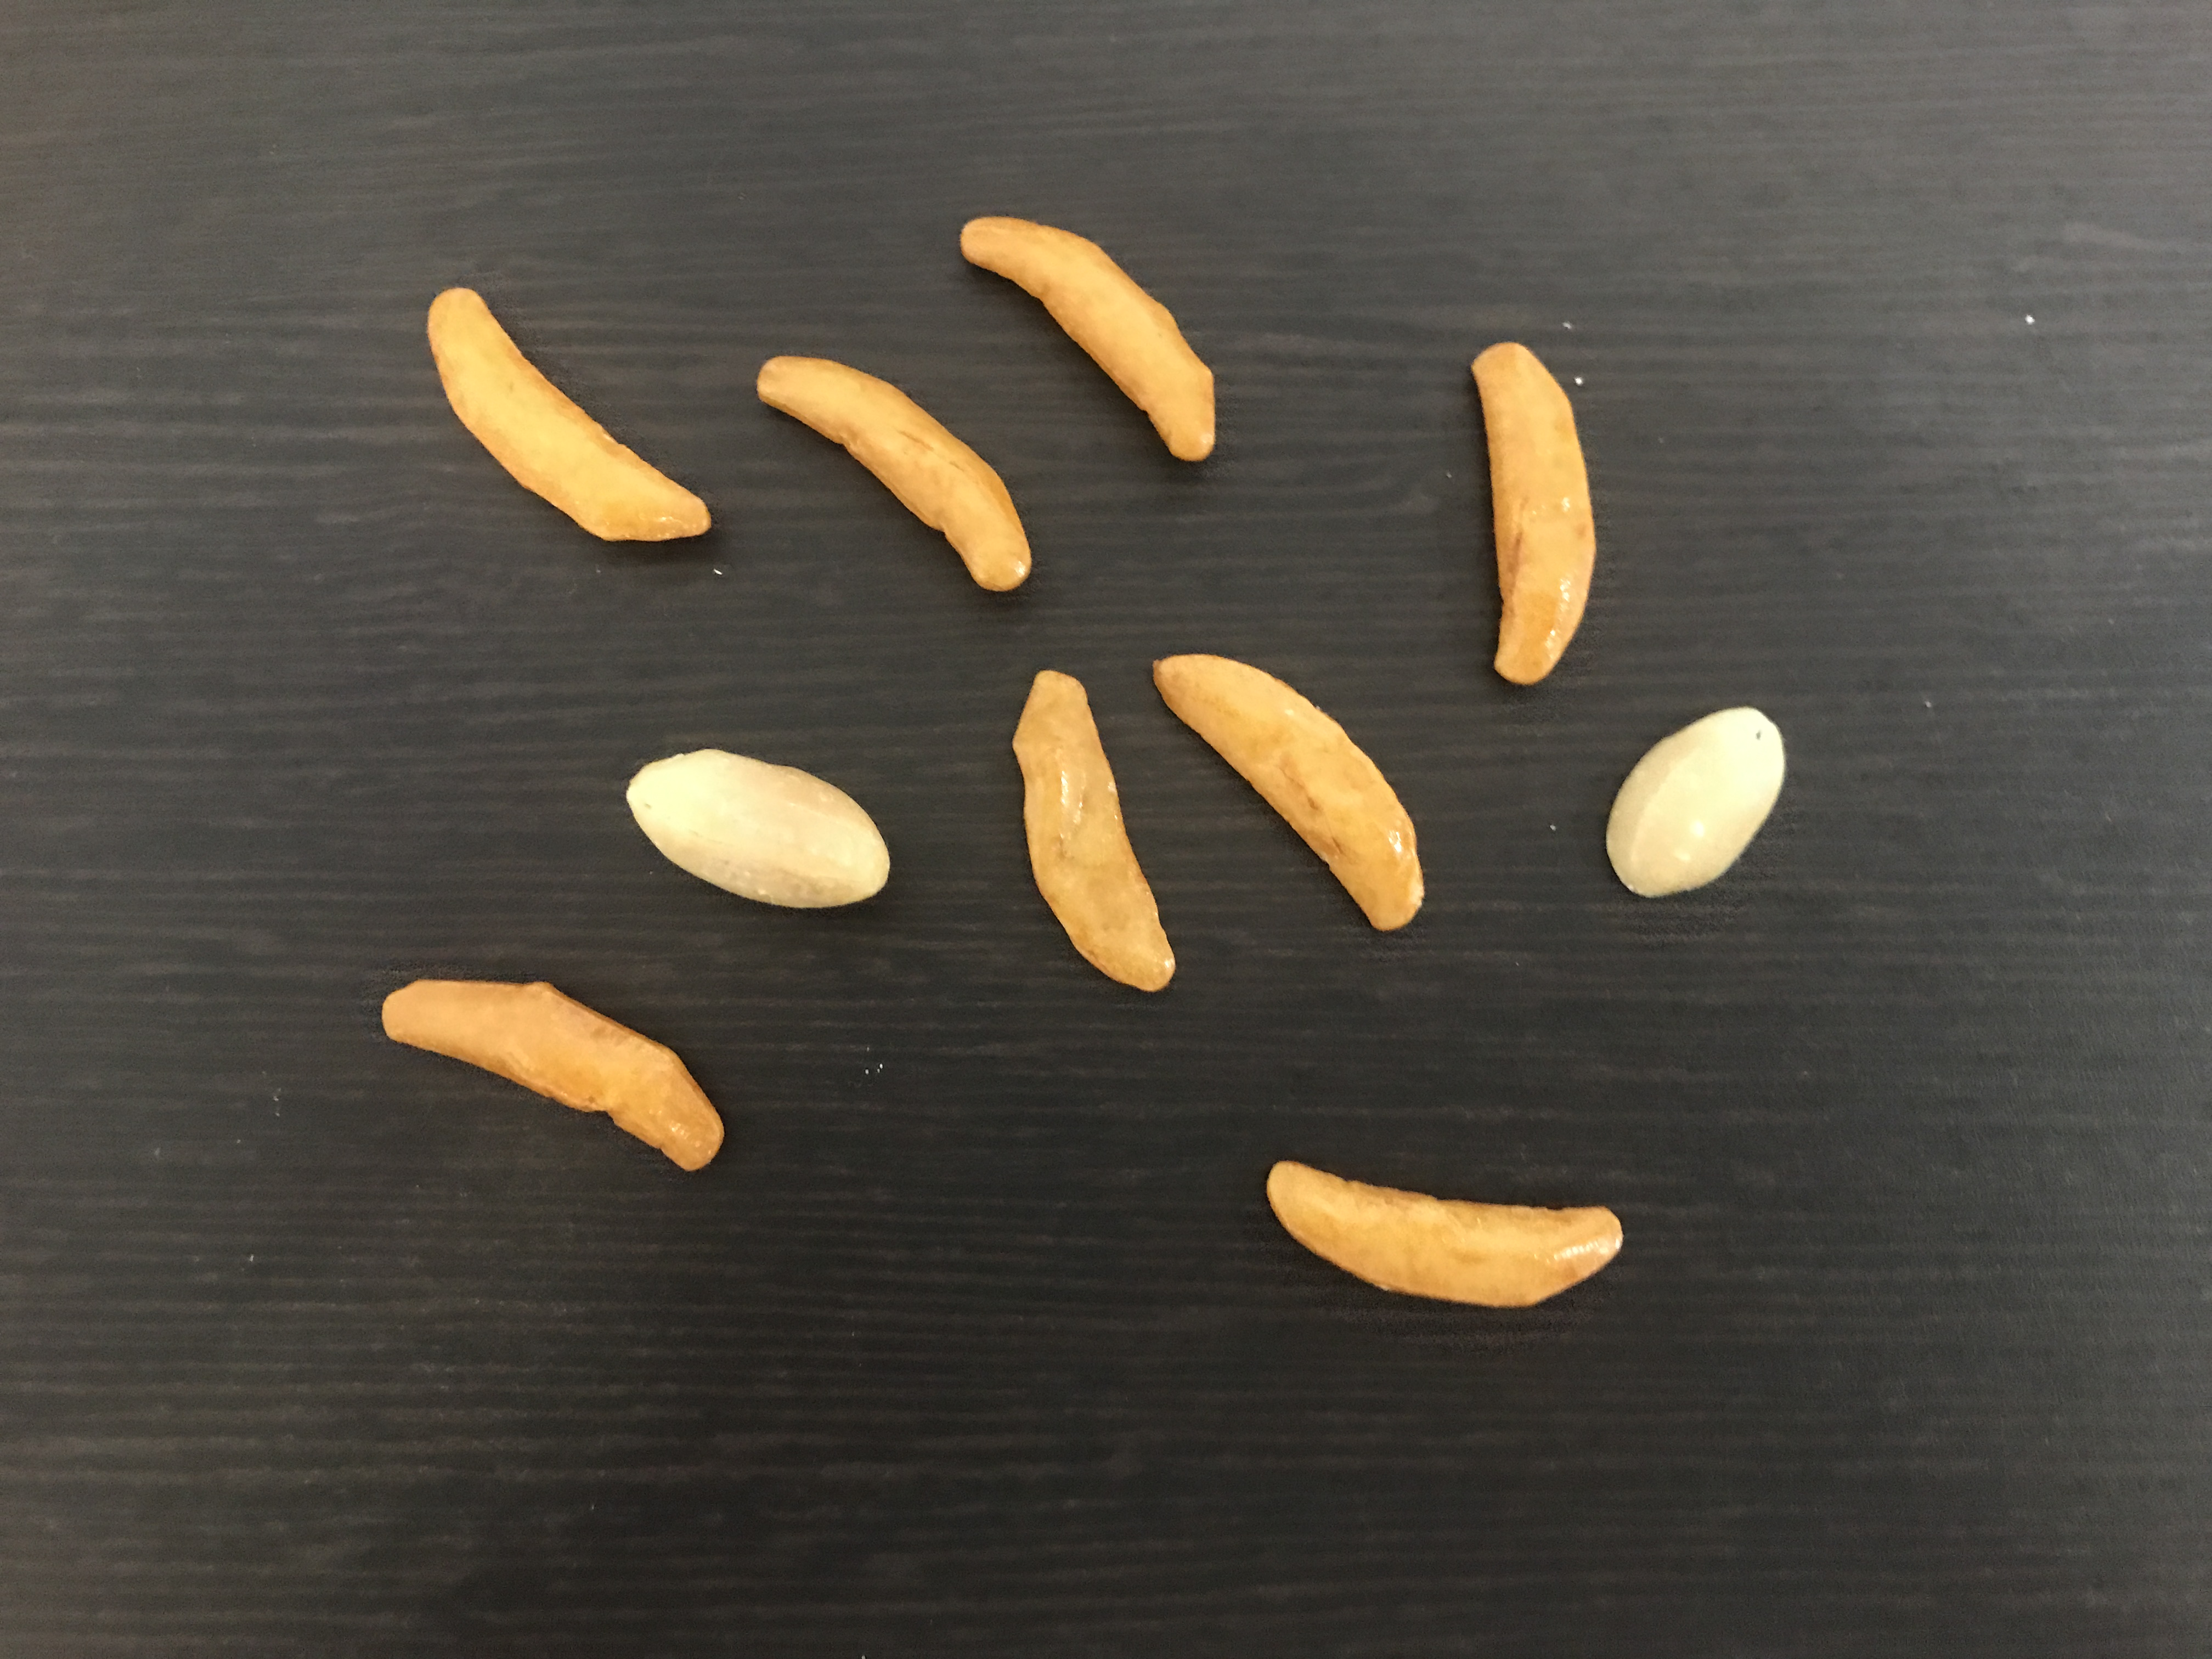peanut: (615, 744, 900, 922), (1594, 688, 1801, 911)
